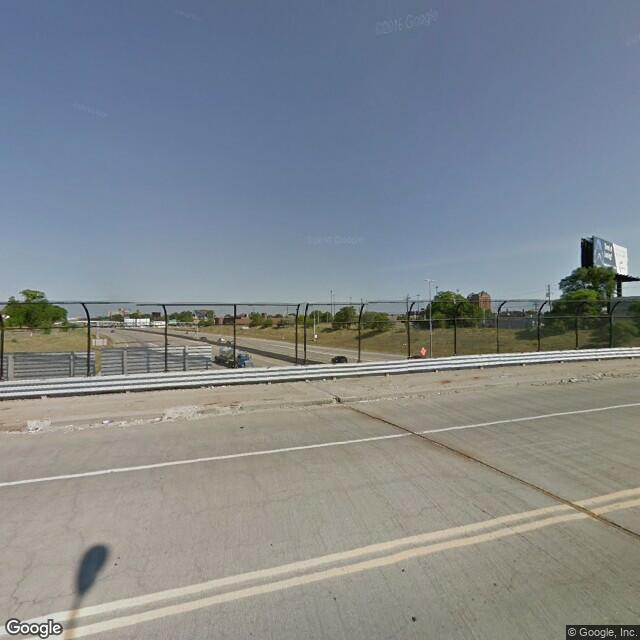litter: (102, 418, 118, 427), (208, 381, 215, 387), (304, 377, 311, 383), (221, 383, 227, 389), (322, 377, 329, 381)
